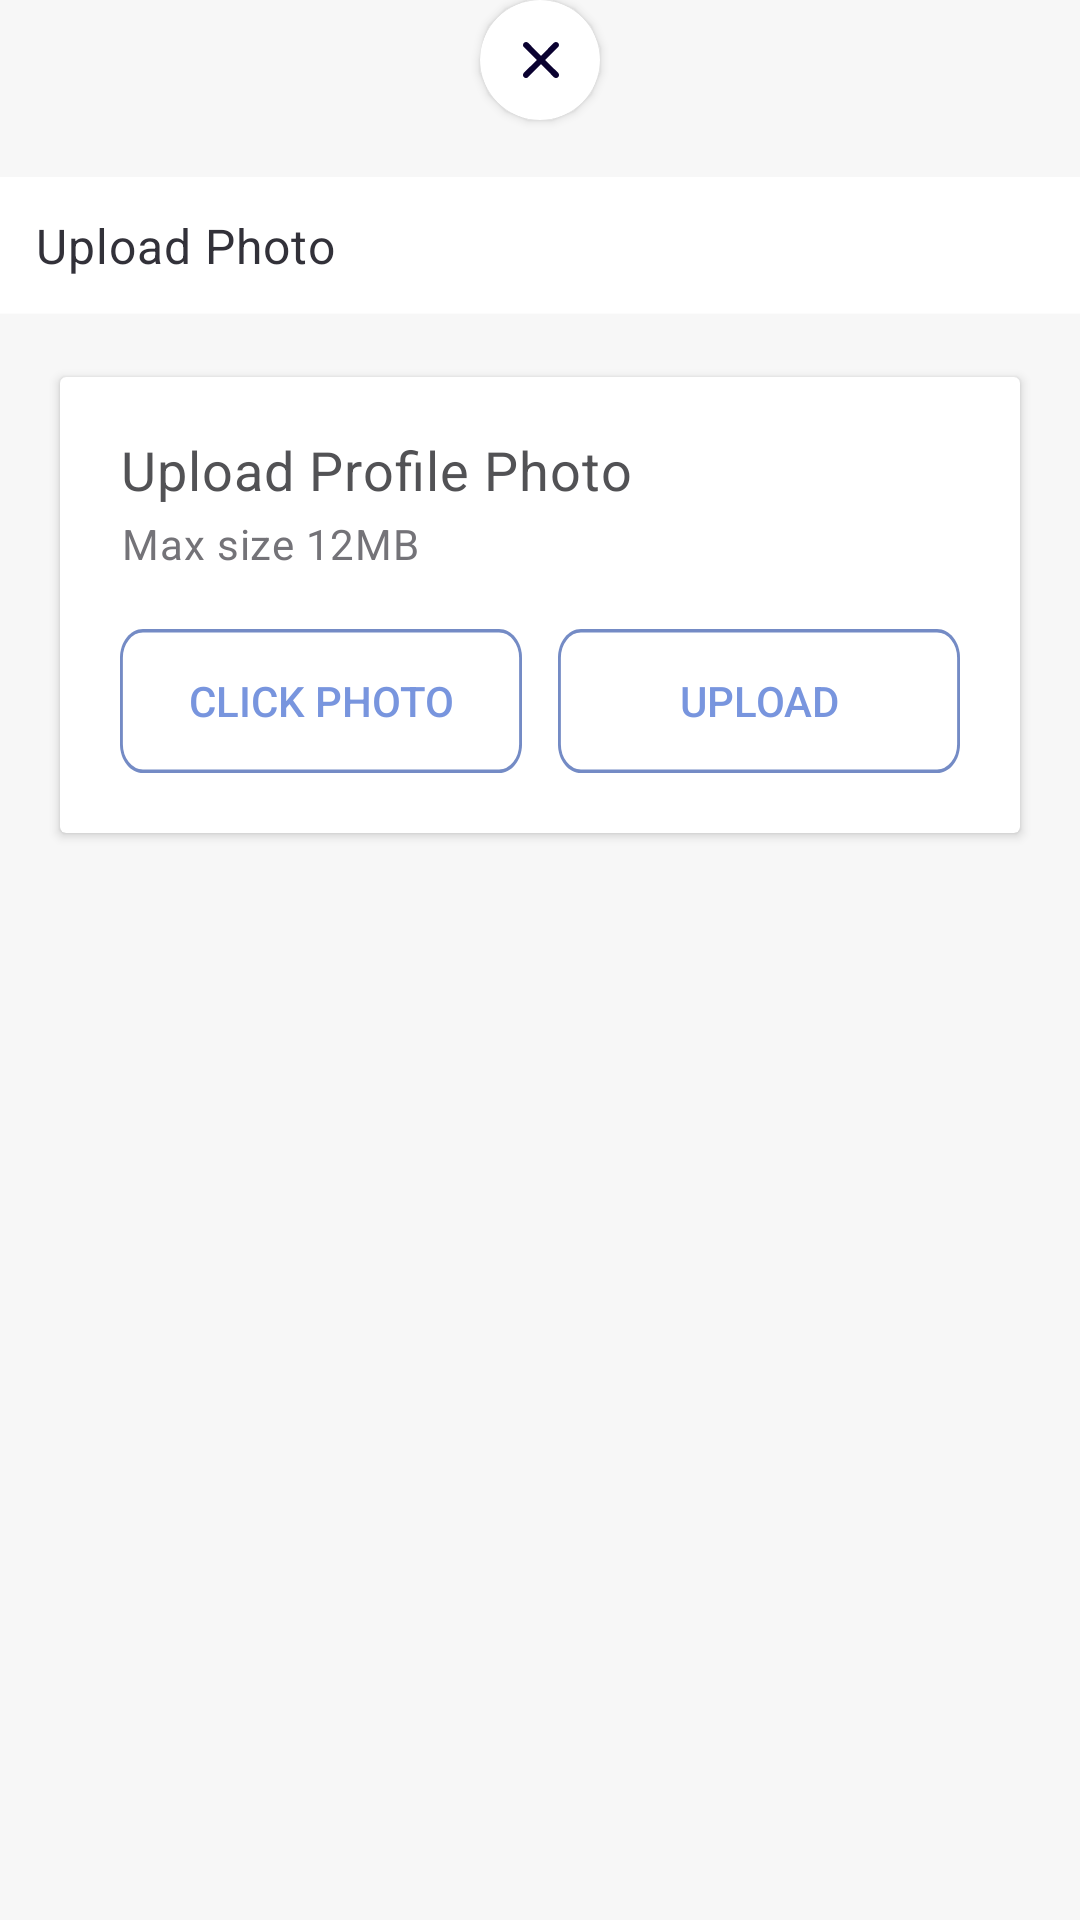

Screen size 1080 x 1920. Icon name, then its center in pixels as point (x, y):
close dialog: point (541, 60)
